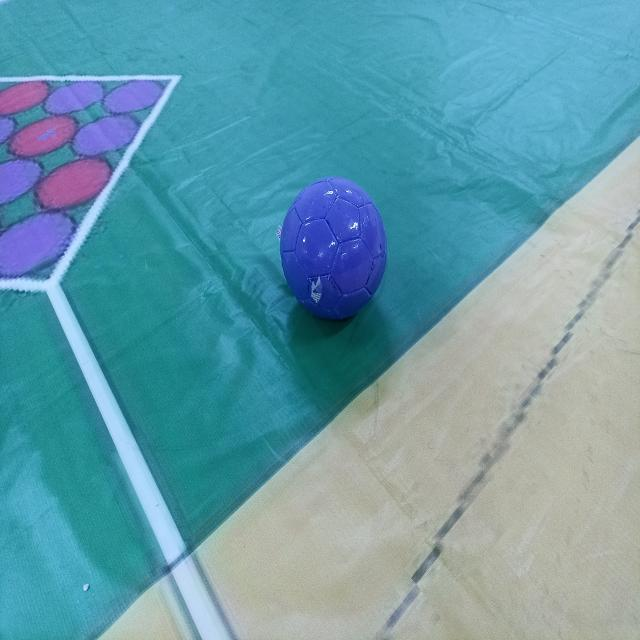purple_ball: (283, 180, 385, 318)
